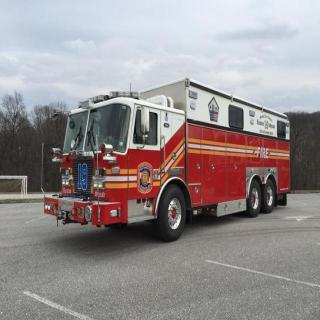Fire_truck: (41, 76, 292, 242)
